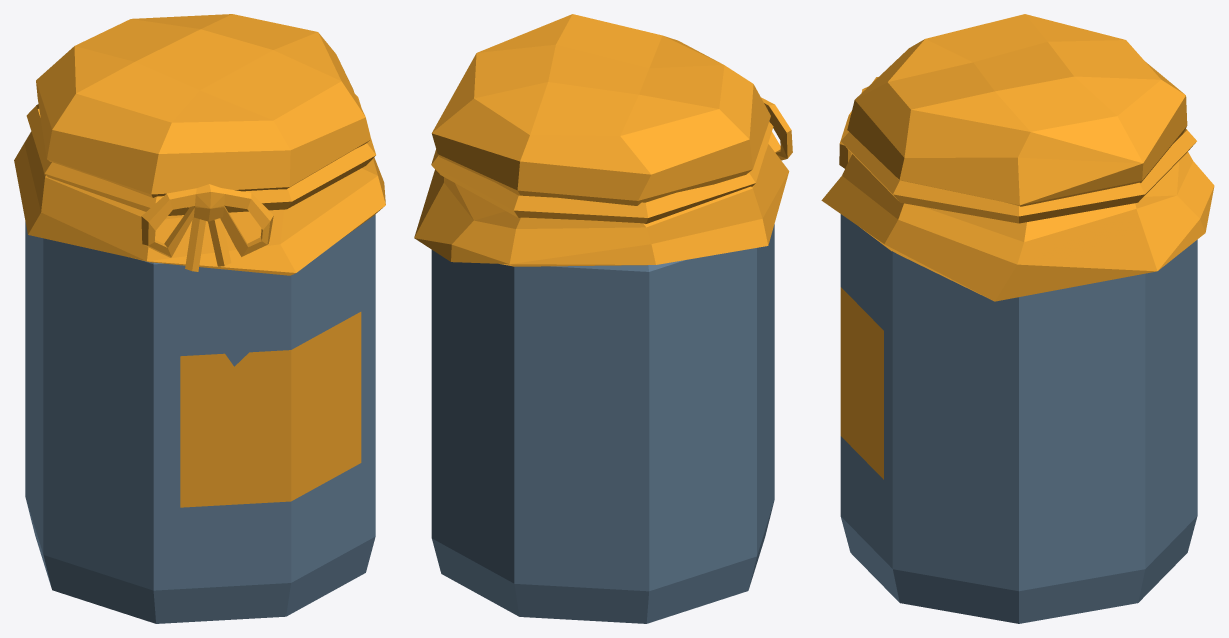
File: SM_Jam_Jar.fbx
3 renders of one model, left to right at view 1: azimuth 30°, elevation 25°; view 2: azimuth 150°, elevation 25°; view 3: azimuth 270°, elevation 25°, orthographic. The views are drawn at different scales.
Visible parts, largest first — view 1: jam-jar; view 2: jam-jar; view 3: jam-jar.
Part boxes in pixels (<box>): jam-jar: <box>14,14,385,623</box>; jam-jar: <box>414,14,792,623</box>; jam-jar: <box>821,14,1214,623</box>.
Size of the model in its own units: 0.1307 by 0.1818 by 0.1321.
